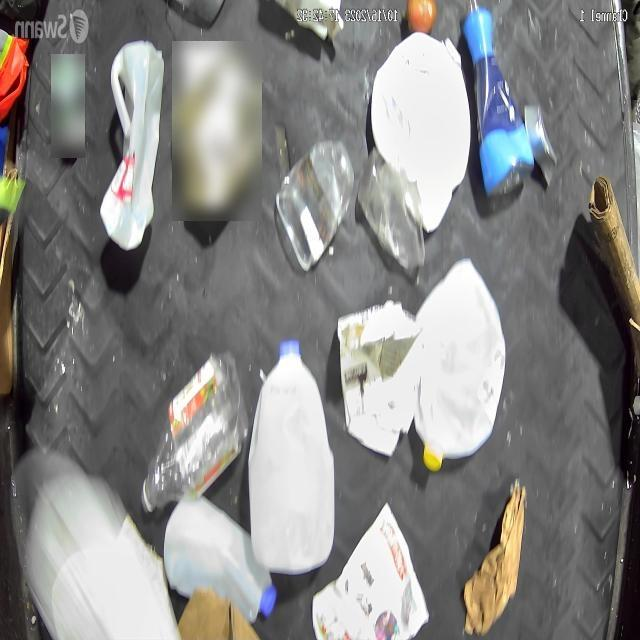milk_jug: (407, 252, 504, 478), (246, 334, 334, 574), (370, 34, 470, 230), (98, 38, 164, 255), (163, 491, 274, 608)
non_white_jug: (468, 2, 532, 202)
plastic_bottle: (138, 352, 242, 518)
